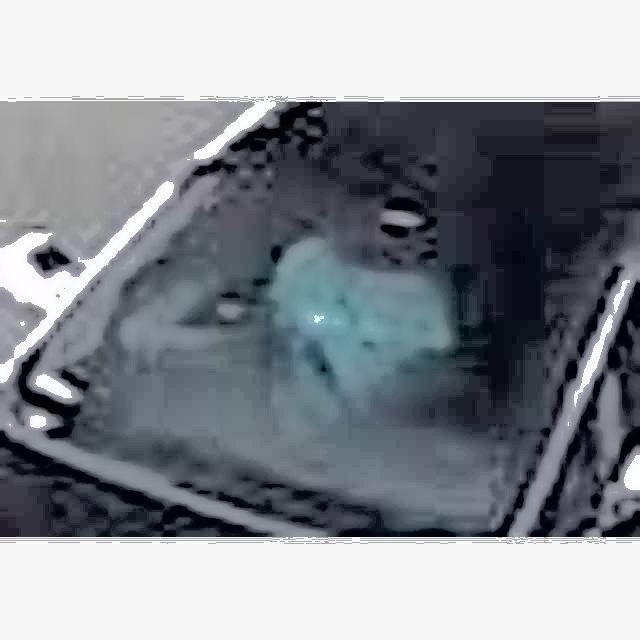tidak-pakai: (231, 204, 470, 388)
